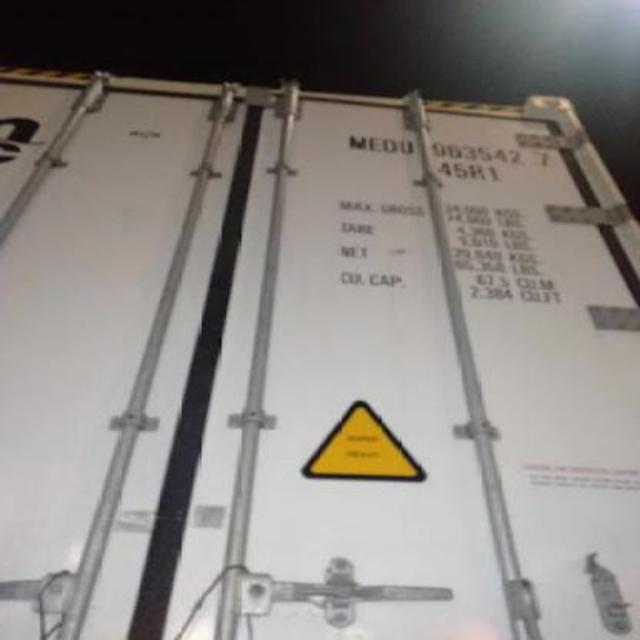2: (510, 138, 530, 172)
3: (462, 140, 478, 162)
4: (492, 147, 512, 165)
5: (478, 142, 496, 164)
6: (444, 140, 464, 160)
7: (534, 146, 560, 172)
9: (431, 136, 444, 160)
D: (380, 134, 400, 156)
E: (366, 133, 382, 157)
M: (344, 128, 368, 152)
U: (398, 138, 422, 156)
